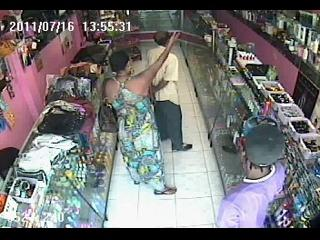Normal: (100, 36, 180, 196), (216, 117, 289, 228), (146, 30, 192, 152)
